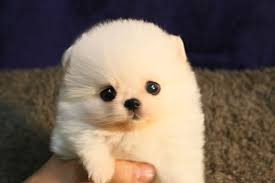pomeranian: (49, 14, 207, 181)
